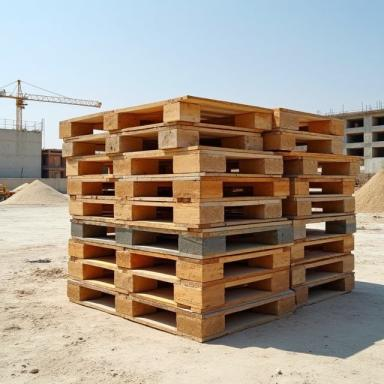pallet: (67, 279, 295, 343), (67, 256, 294, 314), (68, 239, 290, 287), (59, 95, 273, 141), (70, 219, 294, 260), (69, 198, 288, 231), (66, 146, 283, 179), (62, 125, 263, 157), (67, 176, 290, 202), (272, 108, 345, 139), (275, 152, 361, 178), (291, 254, 355, 288), (295, 272, 355, 308), (291, 235, 354, 266), (293, 215, 356, 243), (265, 132, 342, 154), (284, 196, 356, 219), (290, 178, 355, 198), (200, 109, 235, 127), (134, 181, 172, 197), (299, 115, 331, 132), (133, 110, 163, 127), (223, 182, 254, 197), (82, 182, 115, 196), (226, 233, 254, 247), (225, 307, 255, 320), (156, 233, 178, 245), (225, 206, 245, 219), (306, 222, 326, 235), (311, 201, 327, 217), (158, 158, 173, 174), (306, 266, 323, 280), (156, 207, 173, 220), (304, 243, 323, 253), (308, 283, 327, 293), (309, 182, 322, 195), (101, 204, 114, 216)
